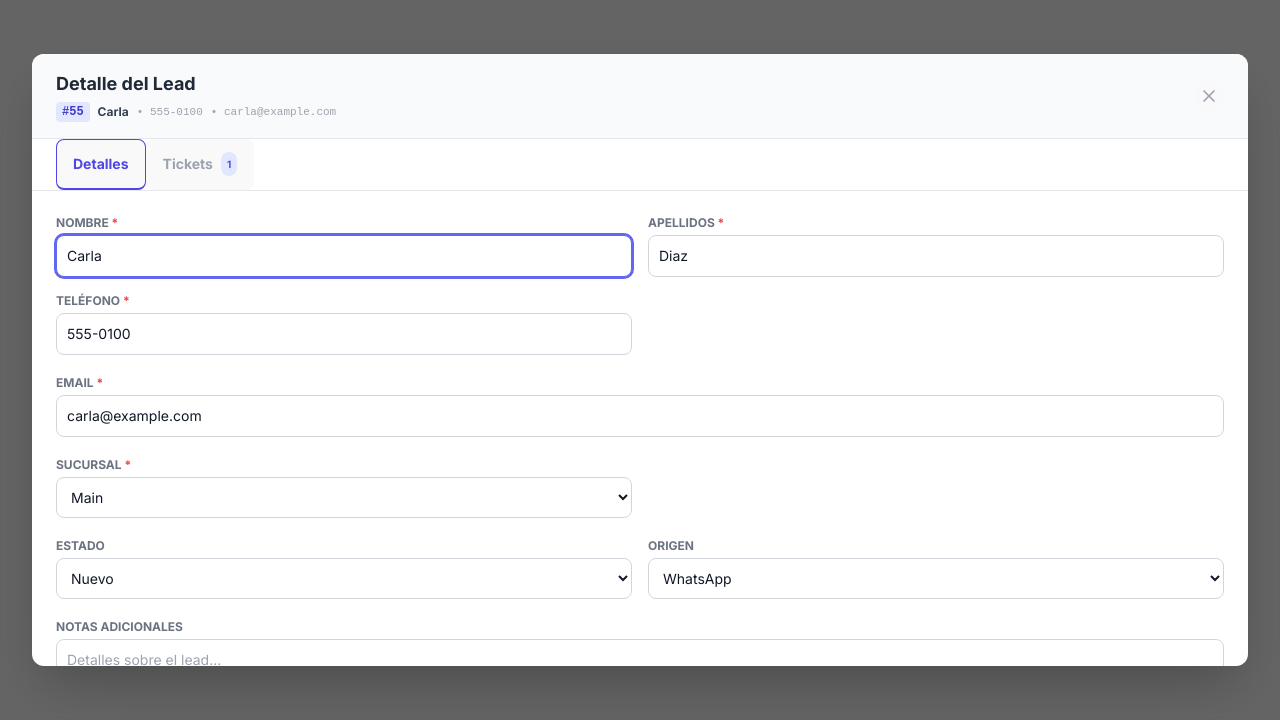
LeadModal — ticket assignment dialog › asks the three-option question when the new responsable differs from the lead's assignee
Click the button "Tickets 1". click: (200, 164)
box: x1=146 y1=139 x2=254 y2=190
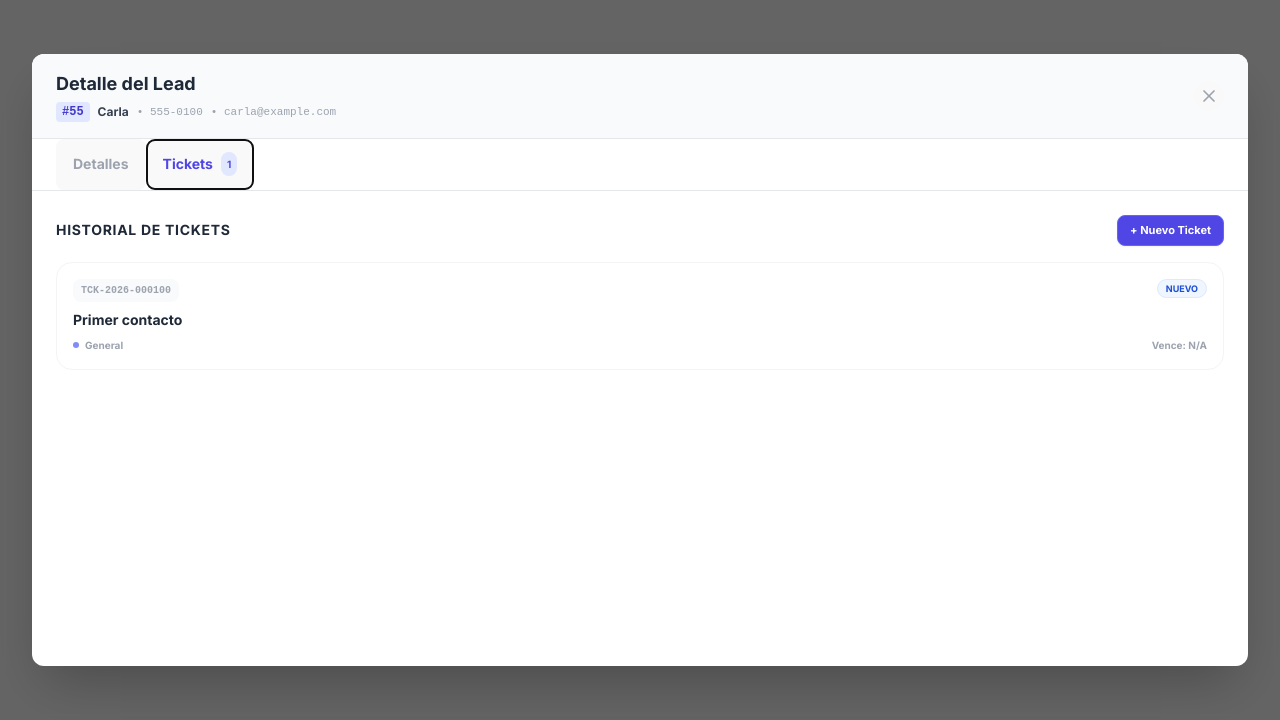
Click the text "TCK-2026-000100". click: (126, 290)
box: x1=73 y1=278 x2=179 y2=302
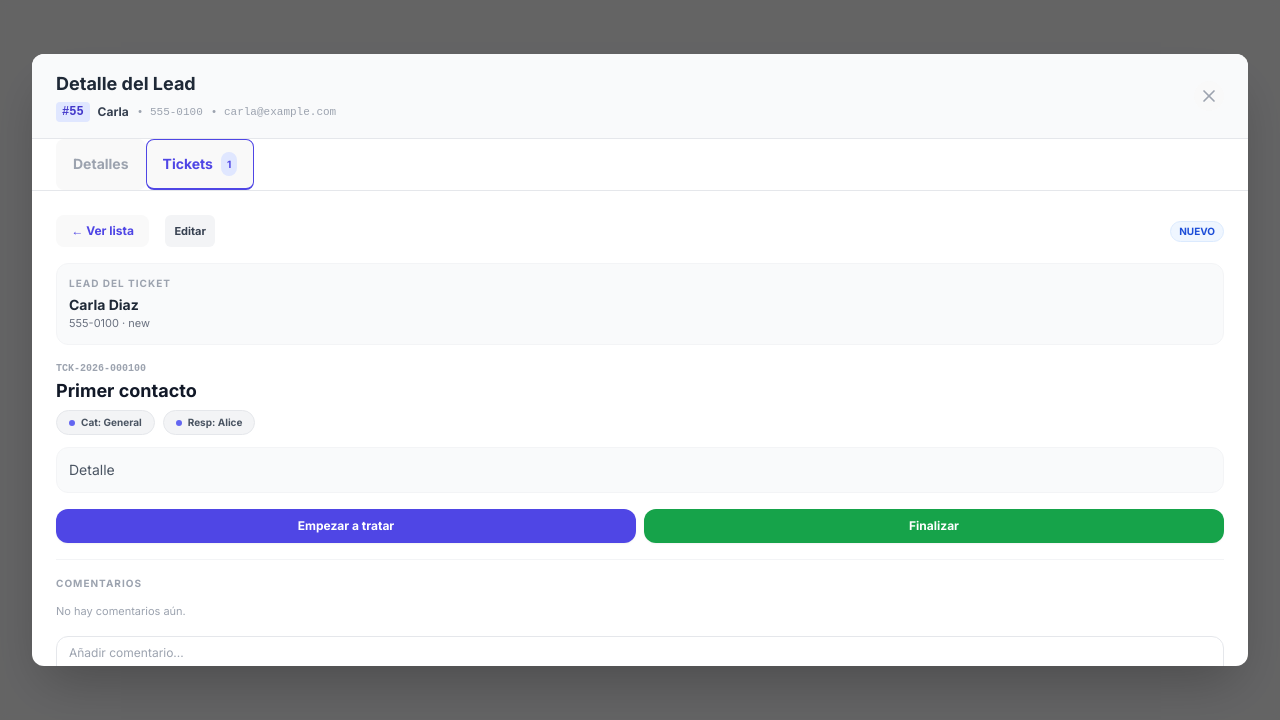
Click the button "Editar". click: (190, 231)
box: x1=165 y1=215 x2=215 y2=247
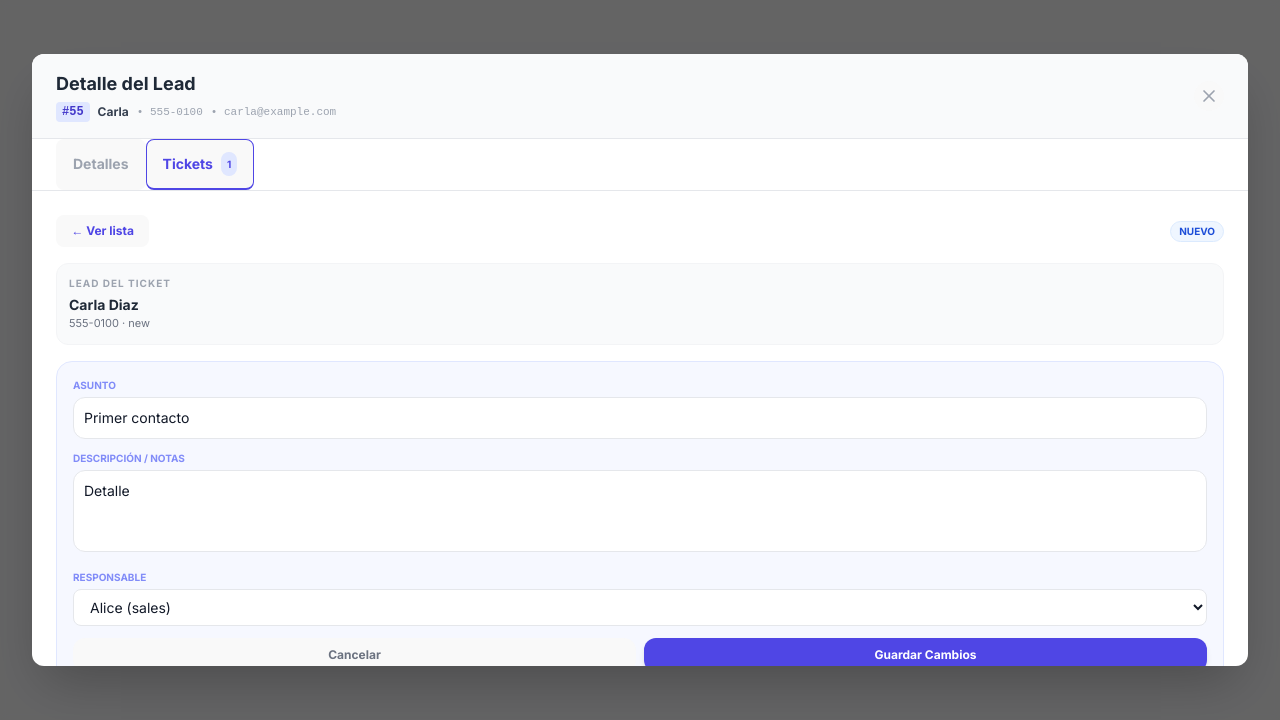
Select "Bruno (sales)" in the dropdown with test id "ticket-assignment-select". click: (640, 607)
box: x1=73 y1=589 x2=1207 y2=626
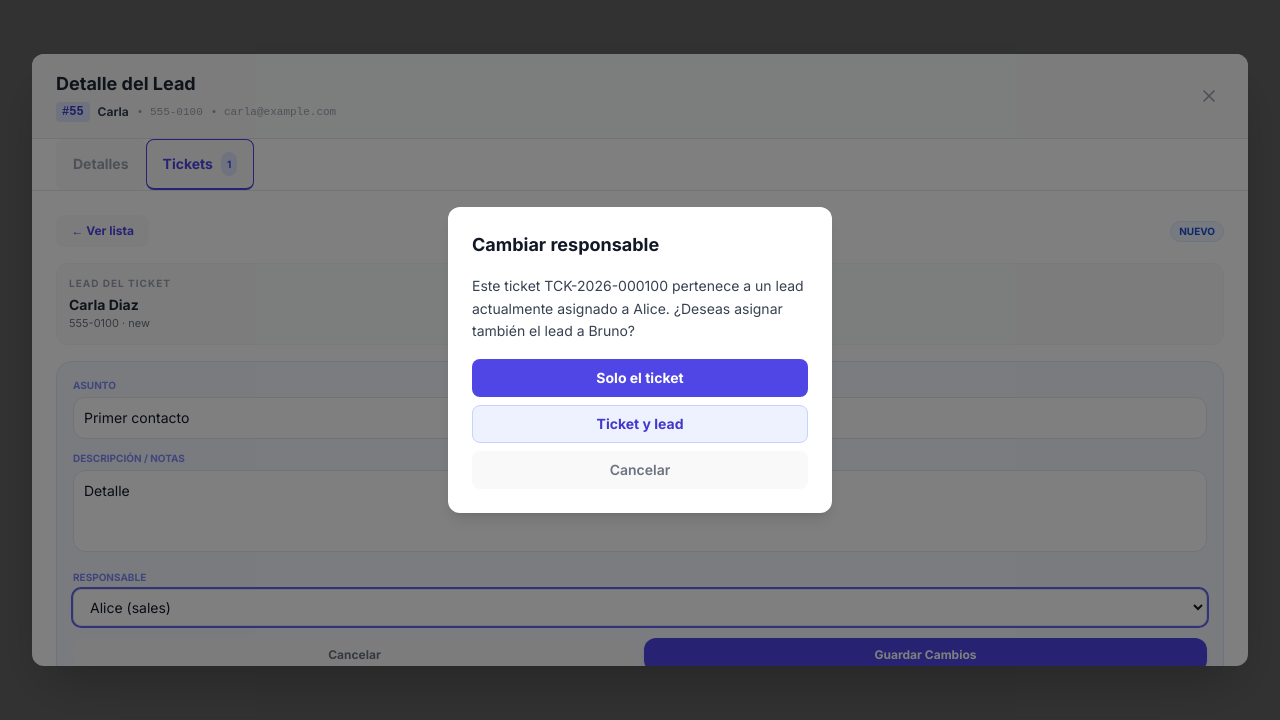
Result: the dialog with test id "assignment-dialog" is shown at x1=448 y1=207 x2=832 y2=513
Result: the button with test id "assignment-dialog-ticket-only" reads "Solo el ticket" at x1=472 y1=359 x2=808 y2=397
Result: the button with test id "assignment-dialog-ticket-and-lead" reads "Ticket y lead" at x1=472 y1=405 x2=808 y2=443
